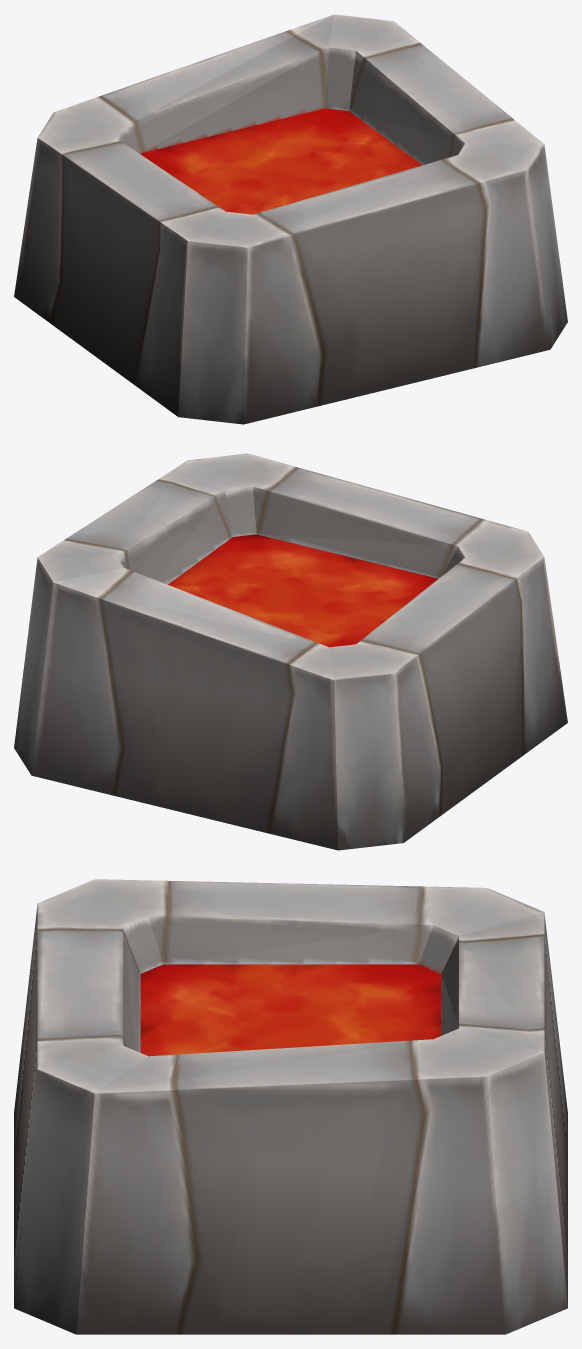
File: Dwarf_Village_Props_07.FBX
3 renders of one model, top to bottom at view 1: azimuth 30°, elevation 25°; view 2: azimuth 150°, elevation 25°; view 3: azimuth 270°, elevation 25°, orthographic. The views are drawn at different scales.
Visible parts, largest first — view 1: Dwarf_Village_Props_07; view 2: Dwarf_Village_Props_07; view 3: Dwarf_Village_Props_07.
Part boxes in pixels (left/top/right/bottom): Dwarf_Village_Props_07: left=14, top=14, right=567, bottom=424; Dwarf_Village_Props_07: left=14, top=453, right=567, bottom=850; Dwarf_Village_Props_07: left=14, top=879, right=567, bottom=1334.
Bounding box in the file's own units: 217 × 101 × 204.
